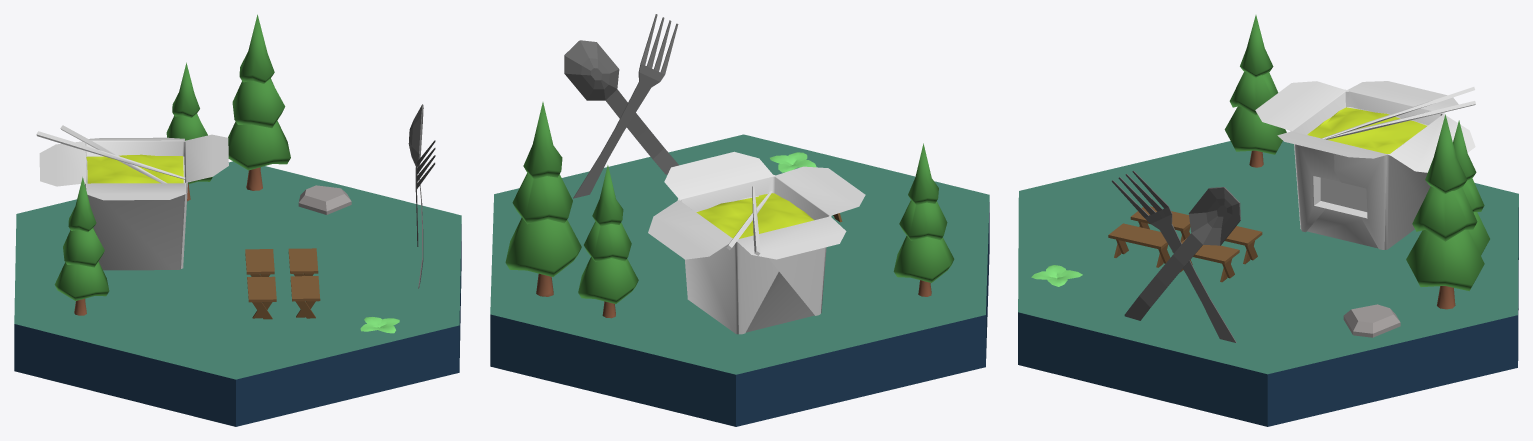
The model's file is Macro - Restaurant lvl 1.fbx.
The picture shows the model from 3 angles, left to right: view 1: azimuth 30°, elevation 25°; view 2: azimuth 150°, elevation 25°; view 3: azimuth 270°, elevation 25°; orthographic projection. The views are drawn at different scales.
Visible parts, largest first — view 1: Cylinder.176, Cube.108, Tree_Spruce_tiny_01.002, Tree_Spruce_tiny_01.003, Tree_Spruce_tiny_01.001, Rock Type4 04 mesh.013, table.003, table.002, Plane.116, table.001, table, Plane.117 (+1 smaller); view 2: Cylinder.176, Cube.108, Tree_Spruce_tiny_01.002, Tree_Spruce_tiny_01.001, Tree_Spruce_tiny_01.003, Plane.116, Plane.117, Plane.011; view 3: Cylinder.176, Cube.108, Tree_Spruce_tiny_01.002, Tree_Spruce_tiny_01.003, Plane.116, Plane.117, Tree_Spruce_tiny_01.001, Rock Type4 04 mesh.013, table.002, table.001, table, table.003 (+1 smaller).
Boxes of the visible parts, <box> form: Cylinder.176: <box>14,161,461,426</box>; Cube.108: <box>36,125,228,270</box>; Tree_Spruce_tiny_01.002: <box>228,14,290,190</box>; Tree_Spruce_tiny_01.003: <box>54,177,109,315</box>; Tree_Spruce_tiny_01.001: <box>166,62,212,201</box>; Rock Type4 04 mesh.013: <box>298,185,351,214</box>; table.003: <box>247,276,276,319</box>; table.002: <box>290,276,320,318</box>; Plane.116: <box>408,104,423,288</box>; table.001: <box>288,248,318,276</box>; table: <box>245,249,274,276</box>; Plane.117: <box>415,140,435,246</box>; Cylinder.176: <box>490,134,989,426</box>; Cube.108: <box>648,151,865,334</box>; Tree_Spruce_tiny_01.002: <box>505,102,581,296</box>; Tree_Spruce_tiny_01.001: <box>578,165,638,318</box>; Tree_Spruce_tiny_01.003: <box>893,143,954,296</box>; Plane.116: <box>564,40,678,174</box>; Plane.117: <box>573,14,678,198</box>; Plane.011: <box>770,152,816,172</box>; Cylinder.176: <box>1018,141,1518,426</box>; Cube.108: <box>1255,81,1475,249</box>; Tree_Spruce_tiny_01.002: <box>1406,114,1484,309</box>; Tree_Spruce_tiny_01.003: <box>1224,15,1286,167</box>; Plane.116: <box>1124,187,1240,320</box>; Plane.117: <box>1111,170,1236,342</box>; Tree_Spruce_tiny_01.001: <box>1453,120,1489,255</box>; Rock Type4 04 mesh.013: <box>1343,304,1400,337</box>; table.002: <box>1108,223,1170,267</box>; table.001: <box>1172,238,1239,282</box>; table: <box>1225,226,1262,264</box>; table.003: <box>1130,206,1190,242</box>.
Size of the model in its own units: 197 by 93.23 by 172.
